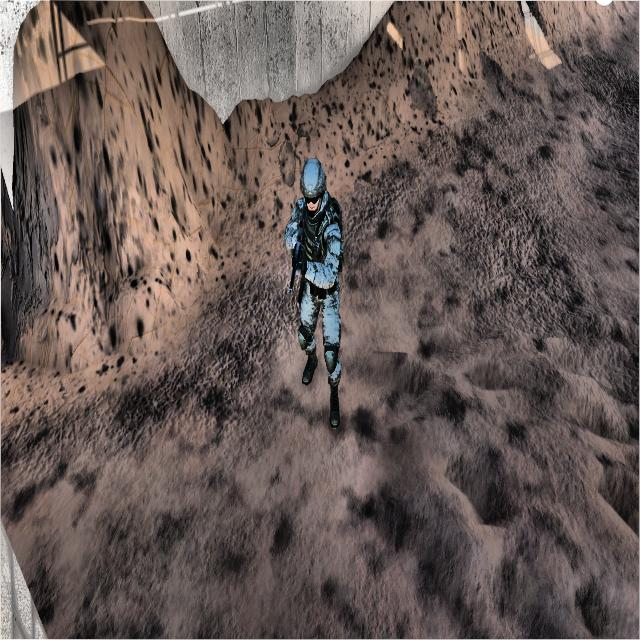bad: (271, 140, 363, 458)
